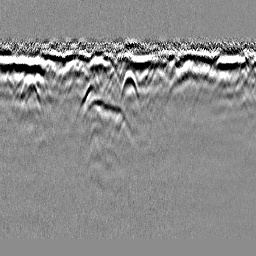cavity: (119, 68, 140, 100)
